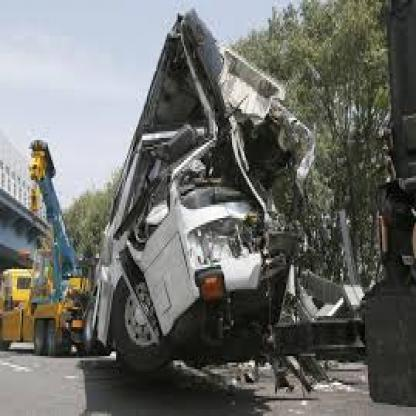accident: (102, 8, 323, 396)
